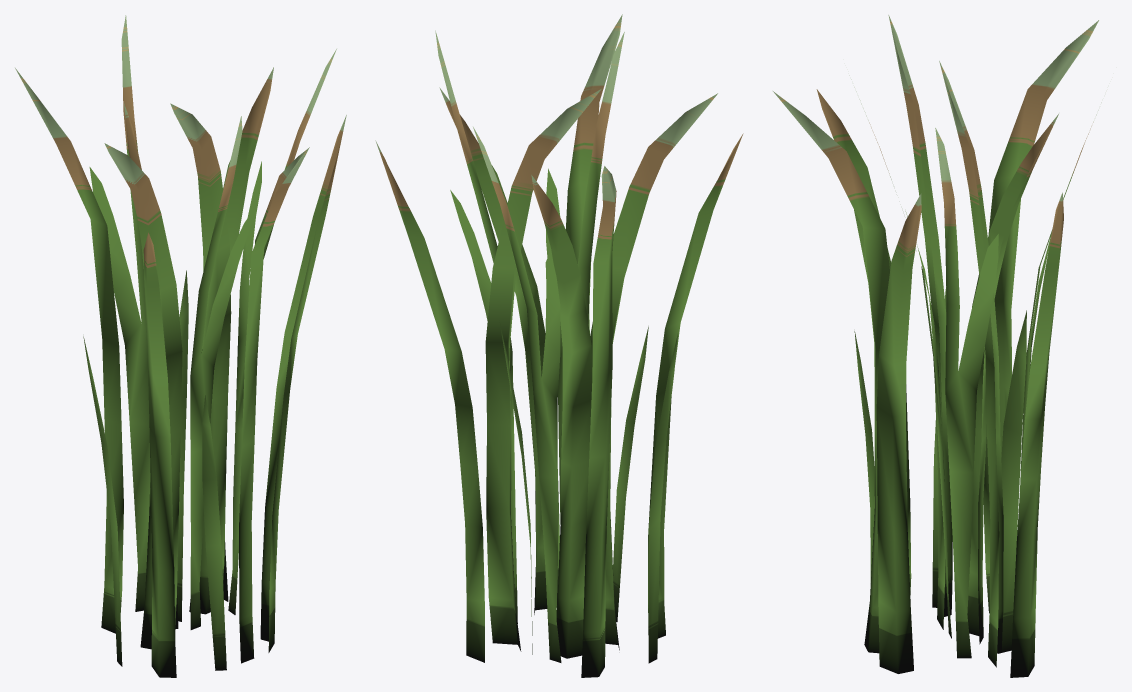
Rendered from Grass_Common_Tall__go_village.glb.
3 views of the same model, side by side, from view 1: azimuth 30°, elevation 25°; view 2: azimuth 150°, elevation 25°; view 3: azimuth 270°, elevation 25° (orthographic). The views are drawn at different scales.
Parts seen in each view (by area): view 1: Grass_Common_Tall; view 2: Grass_Common_Tall; view 3: Grass_Common_Tall.
Boxes of the visible parts, box(x1,y1,x2,y2) form: Grass_Common_Tall: box(15, 15, 346, 677); Grass_Common_Tall: box(375, 14, 743, 677); Grass_Common_Tall: box(773, 15, 1101, 677).
Bounding box in the file's own units: 0.8951 × 1.87 × 0.9931.
Materials: 1 (1 with a texture image).
